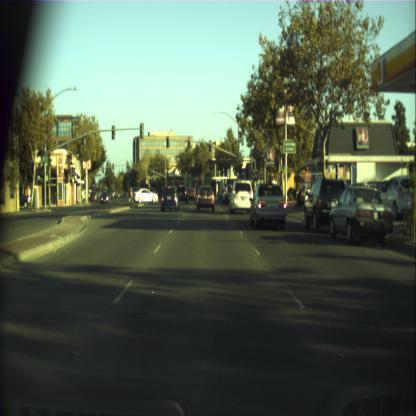Red: (209, 140, 211, 151), (188, 138, 190, 146)
off: (251, 160, 254, 168), (166, 136, 168, 147)
